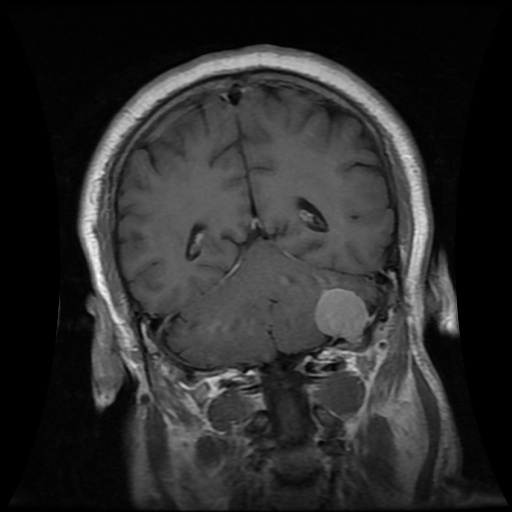meningioma: (316, 288, 372, 340)
